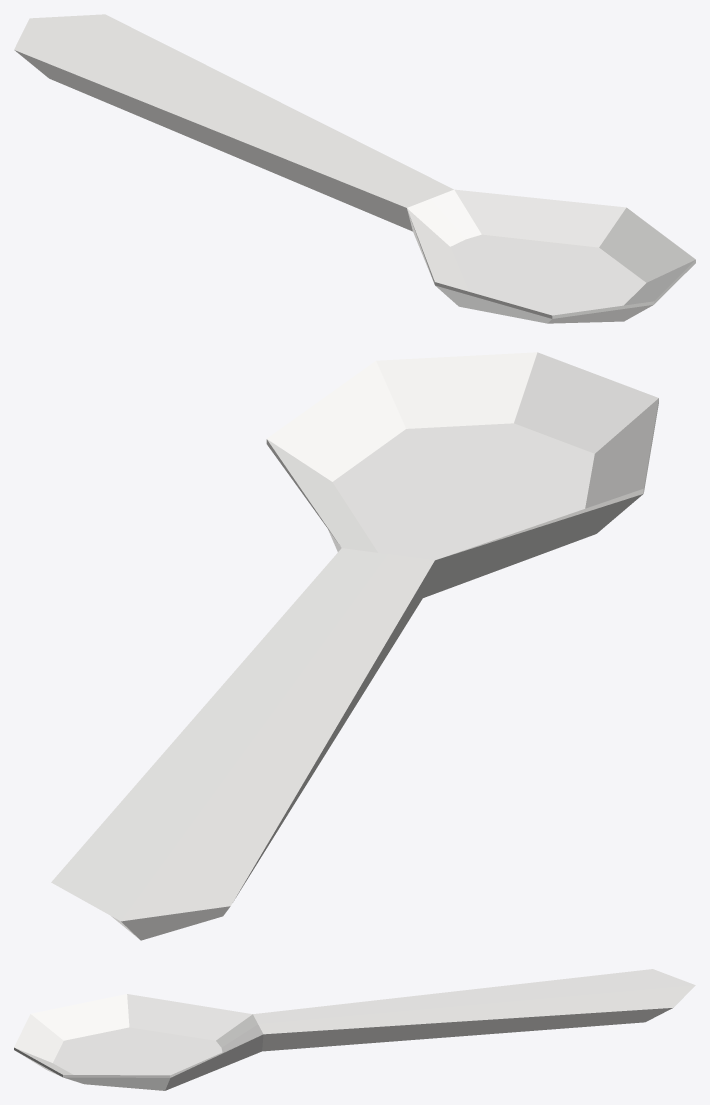
The model's file is Spoon_2.fbx.
3 renders of one model, top to bottom at view 1: azimuth 30°, elevation 25°; view 2: azimuth 150°, elevation 25°; view 3: azimuth 270°, elevation 25°, orthographic. The views are drawn at different scales.
Parts seen in each view (by area): view 1: Spoon_2; view 2: Spoon_2; view 3: Spoon_2.
Part boxes in pixels (x1=…): Spoon_2: x1=14, y1=14, x2=695, y2=323; Spoon_2: x1=51, y1=352, x2=658, y2=940; Spoon_2: x1=14, y1=969, x2=695, y2=1090.
Bounding box in the file's own units: 7.31 × 19.32 × 1.05.
